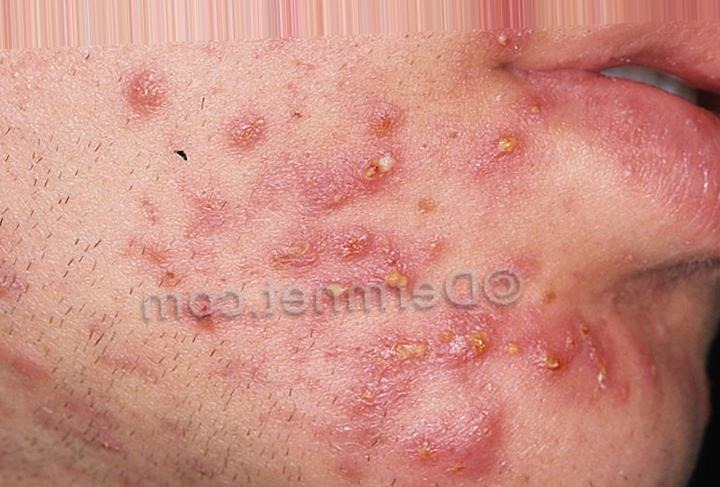Acne: (438, 316, 492, 367), (350, 149, 404, 190), (490, 124, 529, 169), (534, 338, 572, 382), (392, 334, 430, 376), (587, 353, 617, 397), (321, 269, 349, 307), (379, 264, 409, 295)
